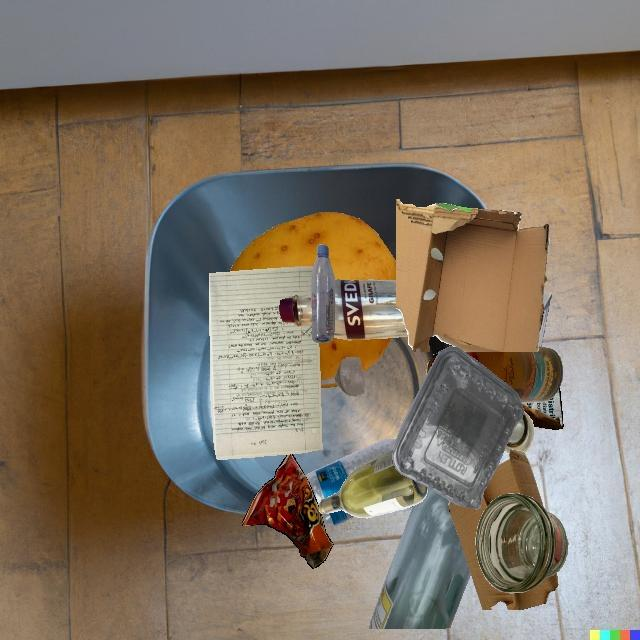biowaste: (241, 212, 396, 281)
cardboard: (396, 199, 549, 352), (449, 449, 558, 610), (521, 387, 563, 430)
glass: (369, 487, 471, 629), (476, 493, 568, 593), (319, 450, 428, 518), (465, 347, 563, 403), (333, 280, 408, 340), (320, 357, 365, 396), (504, 411, 535, 454)
paper: (209, 266, 322, 460), (538, 290, 552, 347)
plastic: (392, 346, 524, 510), (305, 439, 396, 507), (311, 244, 335, 342)
trash: (242, 454, 333, 568)
